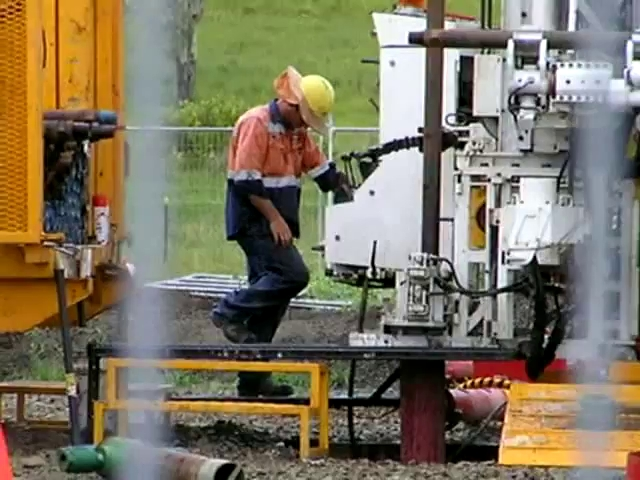person: (209, 65, 353, 398)
